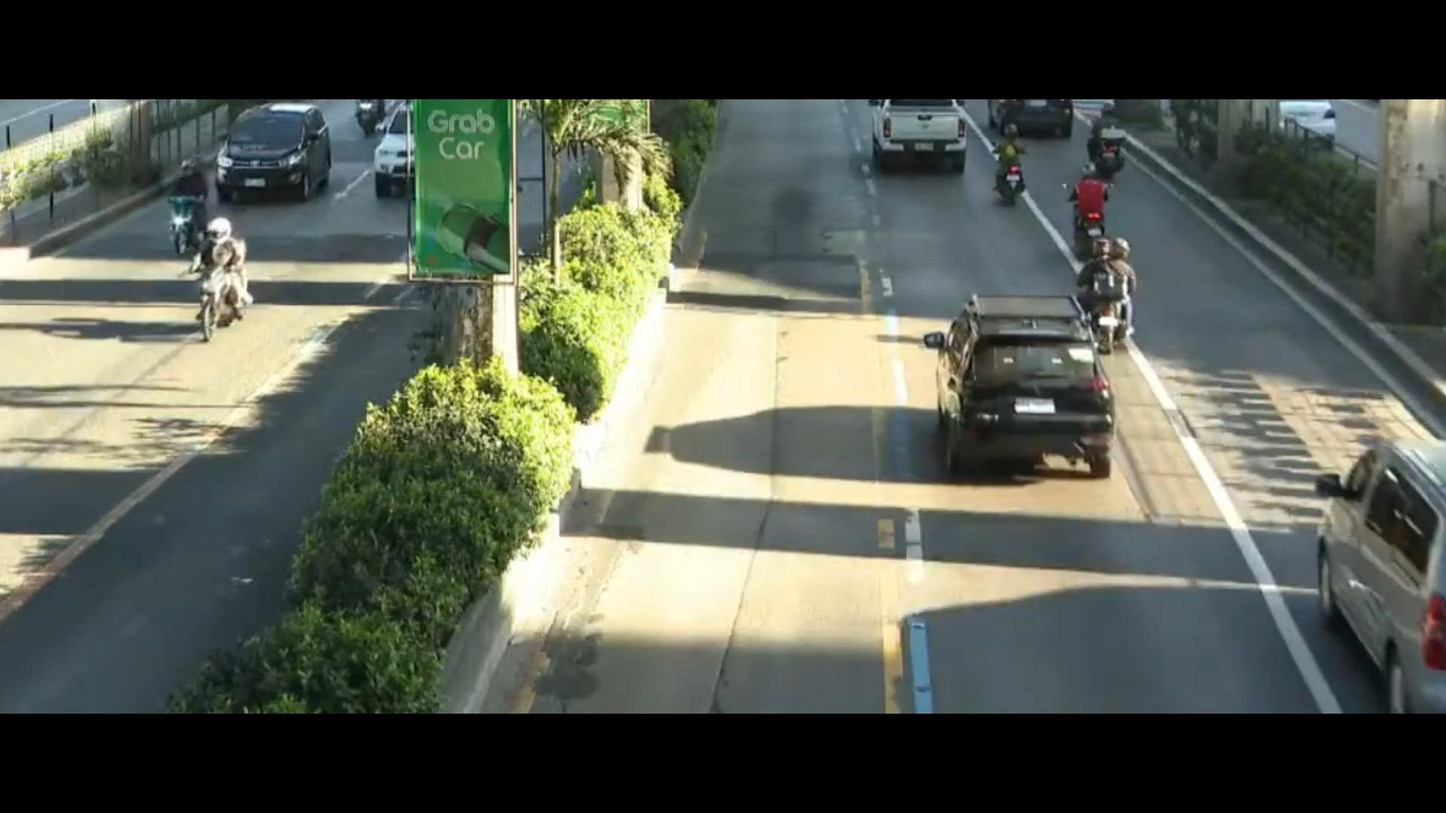Motorcycle: (180, 207, 268, 331), (1079, 232, 1158, 345), (972, 121, 1036, 214), (1064, 166, 1109, 265), (166, 143, 212, 237), (1091, 111, 1141, 172)
Pickup: (859, 100, 977, 194)
SUV: (929, 269, 1128, 476), (191, 108, 334, 205), (361, 109, 422, 211)
Van: (1292, 407, 1446, 706)
